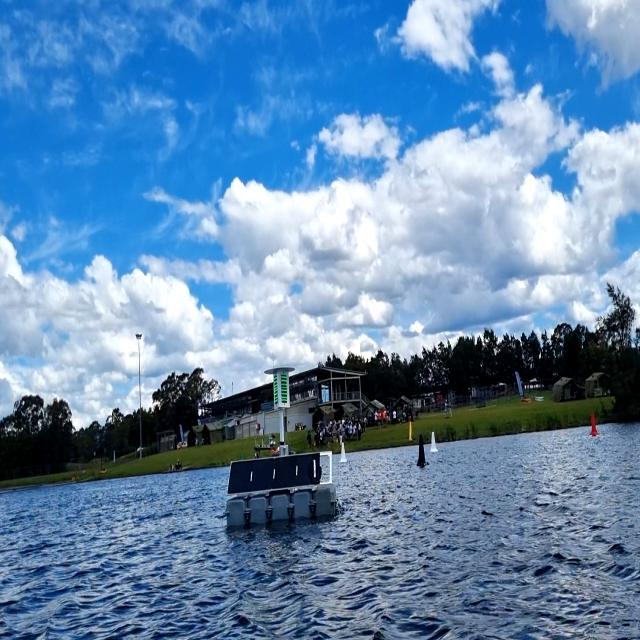led: (278, 370, 289, 406), (274, 374, 279, 405)
